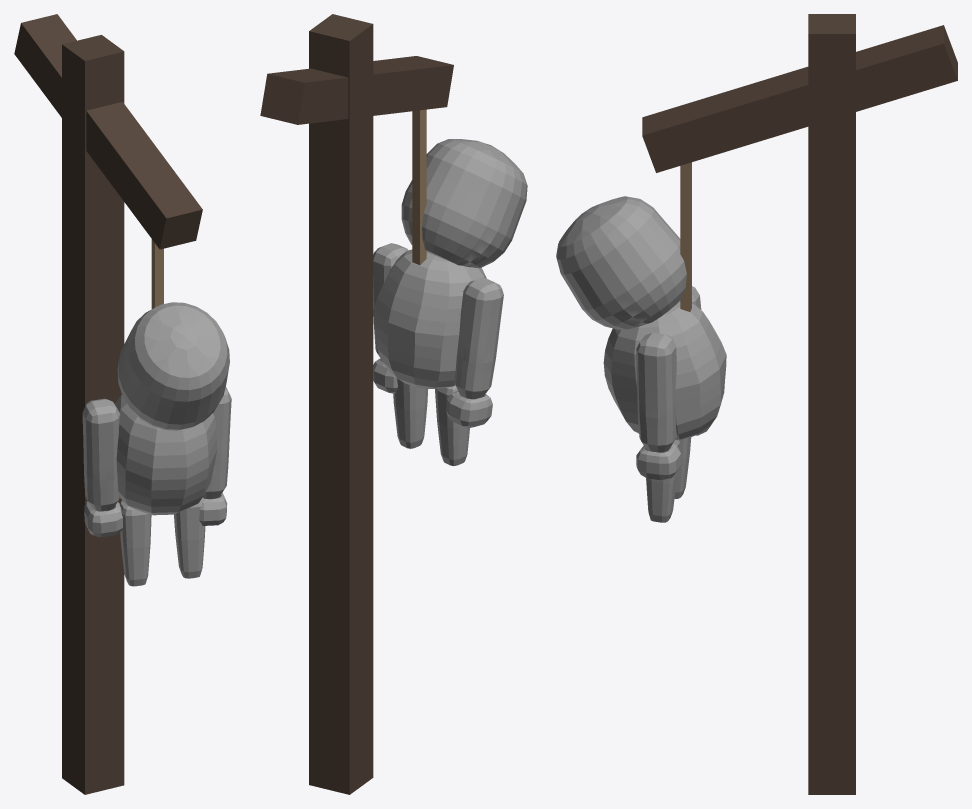
File: hangman_2.glb
The picture shows the model from 3 angles, left to right: view 1: azimuth 30°, elevation 25°; view 2: azimuth 150°, elevation 25°; view 3: azimuth 270°, elevation 25°; orthographic projection. The views are drawn at different scales.
Visible parts, largest first — view 1: Cube.1076; view 2: Cube.1076; view 3: Cube.1076.
Boxes of the visible parts, x1,y1,x2,y2 form: Cube.1076: (14, 14, 231, 794); Cube.1076: (260, 14, 527, 794); Cube.1076: (556, 14, 957, 794).
Size of the model in its own units: 0.0224 by 0.1179 by 0.0564.
